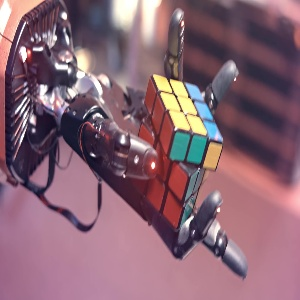cube: (131, 74, 224, 234)
